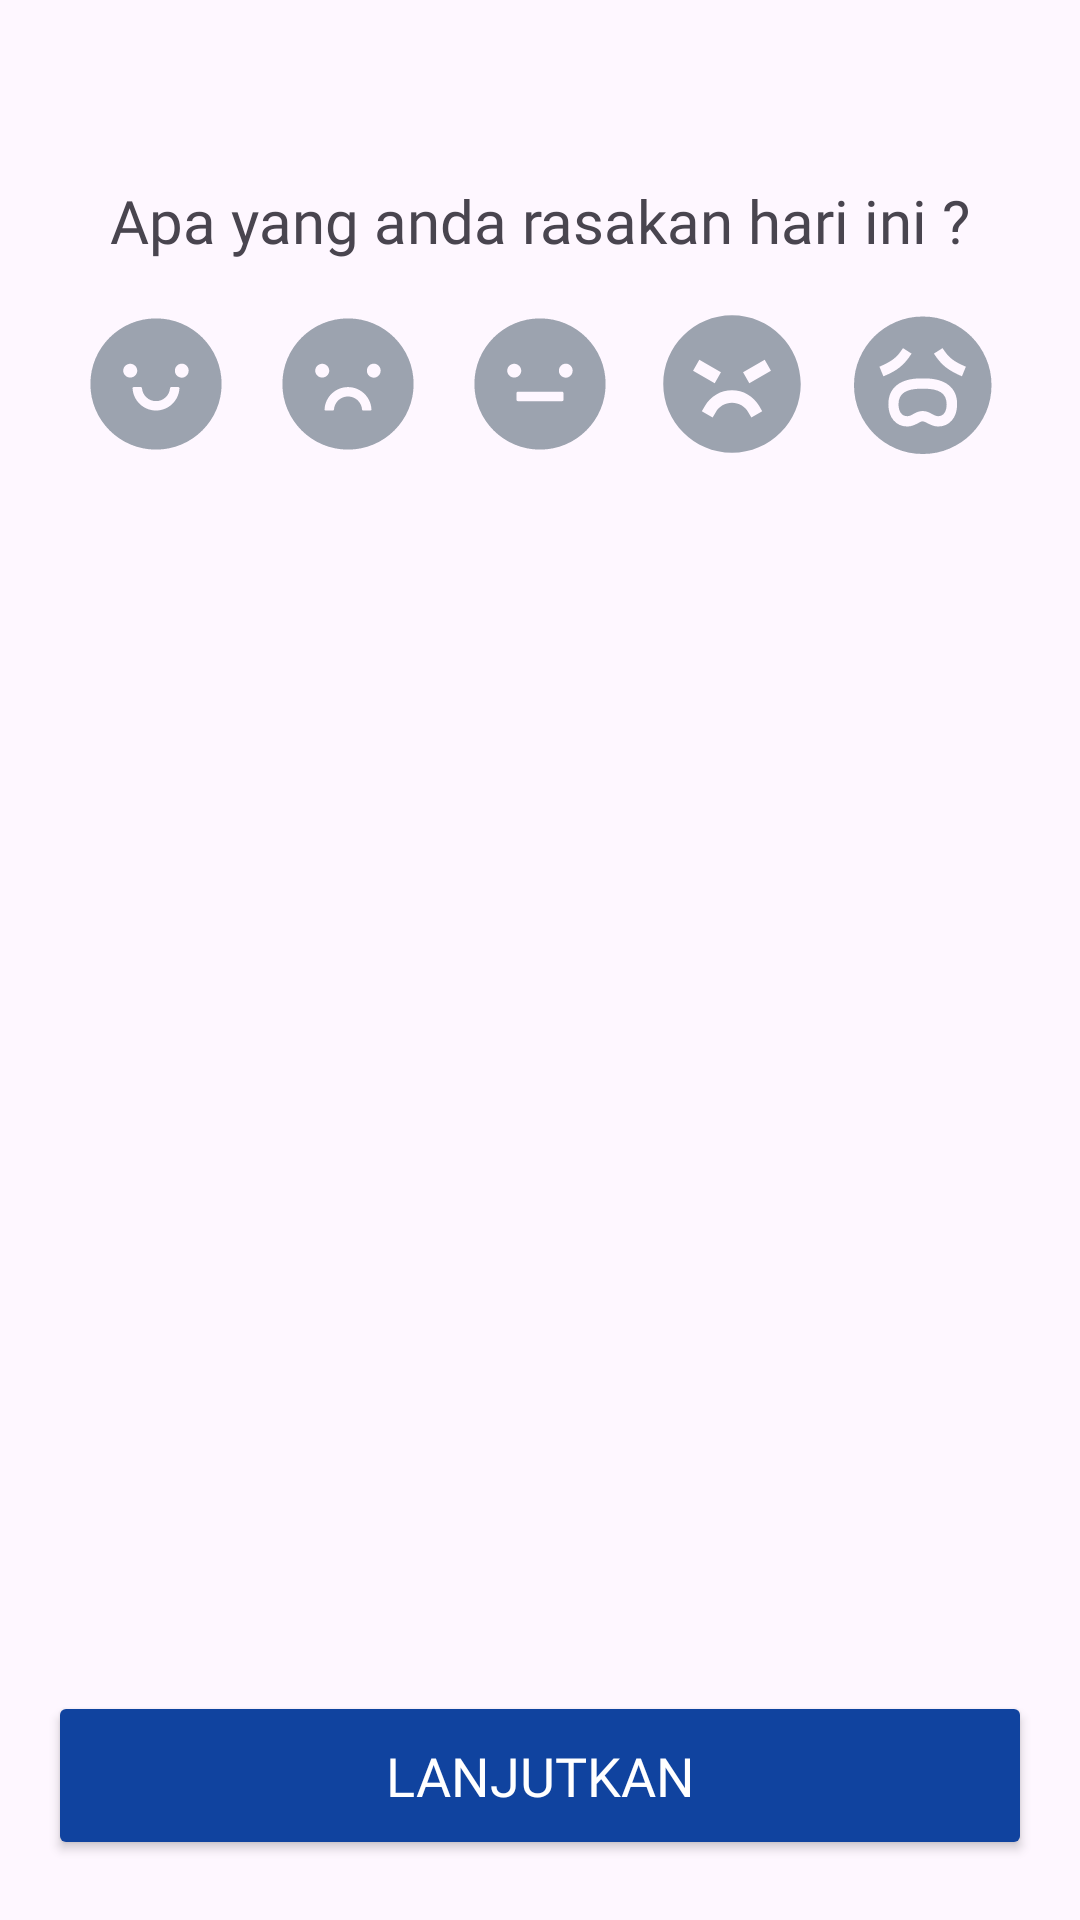

Screen size 1080*1920. Icon name, then its center in pixels as [x,y]:
Angry: [732,384]
Frustated: [923,385]
Happy: [156,384]
Normal: [540,384]
Sad: [348,384]
